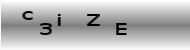3: (38, 22, 53, 36)
E: (115, 21, 127, 36)
Z: (85, 13, 102, 27)
c: (21, 10, 35, 21)
i: (56, 13, 62, 27)
